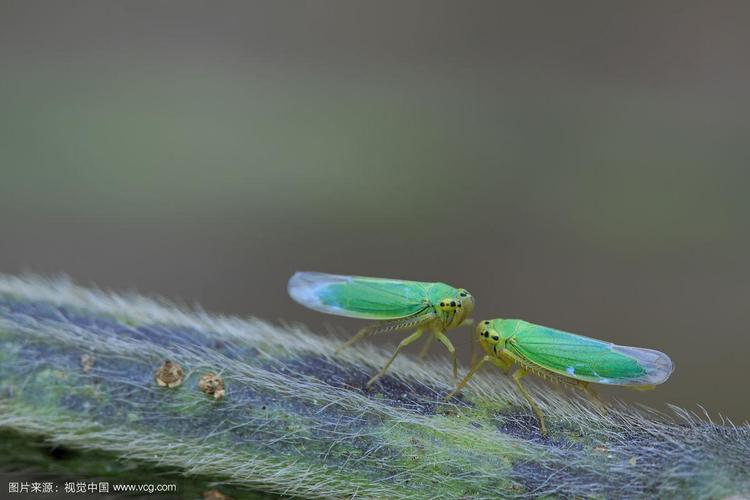Cicadellidae: (461, 312, 673, 433), (286, 267, 474, 389)
